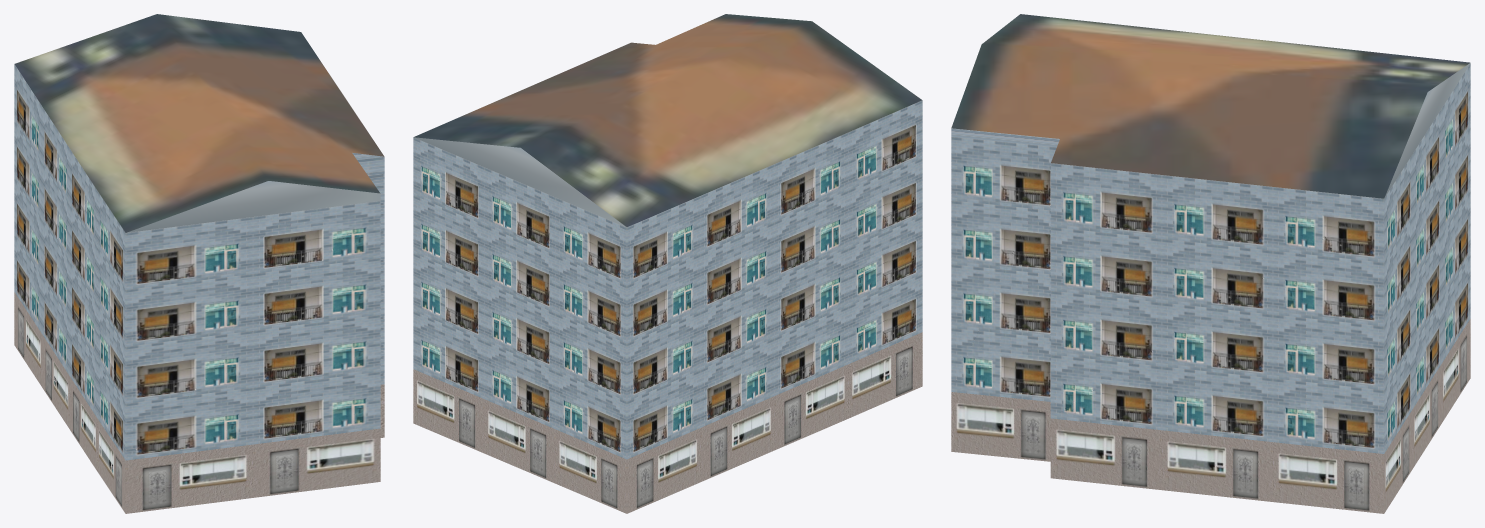
3 views of the same model, side by side, from view 1: azimuth 30°, elevation 25°; view 2: azimuth 150°, elevation 25°; view 3: azimuth 270°, elevation 25° (orthographic). The views are drawn at different scales.
Visible parts, largest first — view 1: SketchUp (×4); view 2: SketchUp (×4); view 3: SketchUp (×5).
Boxes of the visible parts, x1,y1,x2,y2 form: SketchUp (×4): (14,14,384,513); SketchUp (×4): (413,14,922,513); SketchUp (×5): (951,14,1470,513).
Bounding box in the file's own units: 860 × 1022 × 767.
6 materials, 5 textured.
